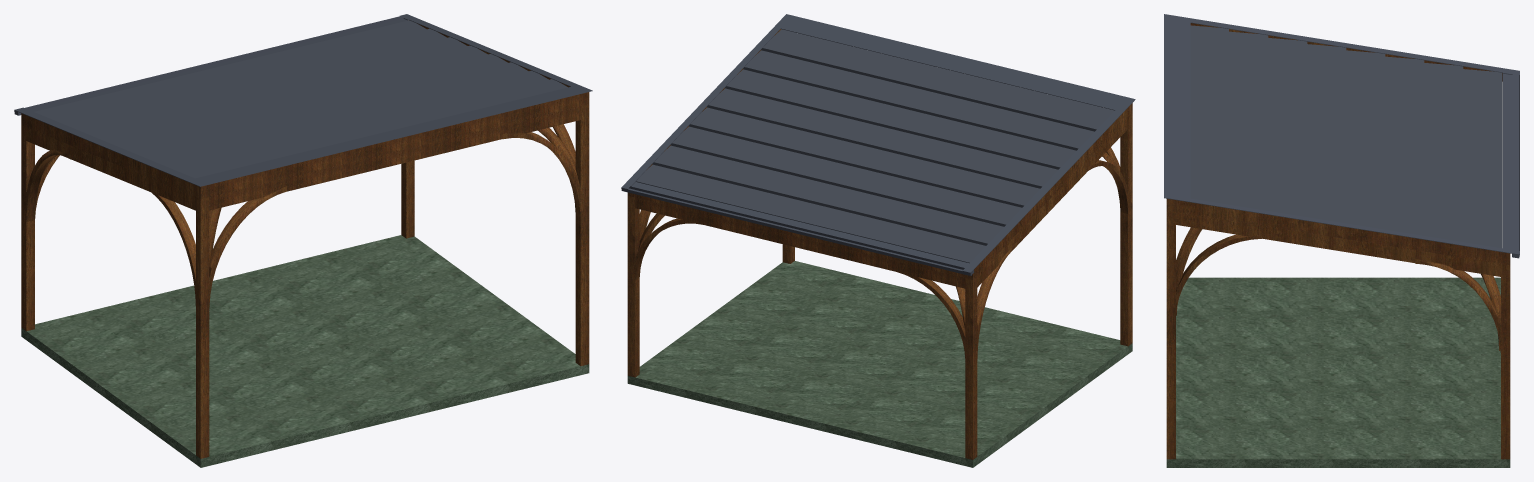
The model's file is smaller.glb.
3 views of the same model, side by side, from view 1: azimuth 30°, elevation 25°; view 2: azimuth 150°, elevation 25°; view 3: azimuth 270°, elevation 25° (orthographic). The views are drawn at different scales.
Parts seen in each view (by area): view 1: Power Pergola-OBJ version.001; view 2: Power Pergola-OBJ version.001; view 3: Power Pergola-OBJ version.001.
Part boxes in pixels (x1,y1,x2,y2): Power Pergola-OBJ version.001: [14, 14, 592, 467]; Power Pergola-OBJ version.001: [621, 14, 1135, 467]; Power Pergola-OBJ version.001: [1164, 14, 1519, 467].
Size of the model in its own units: 45.5 by 31.34 by 37.26.
10 materials, 4 textured.
